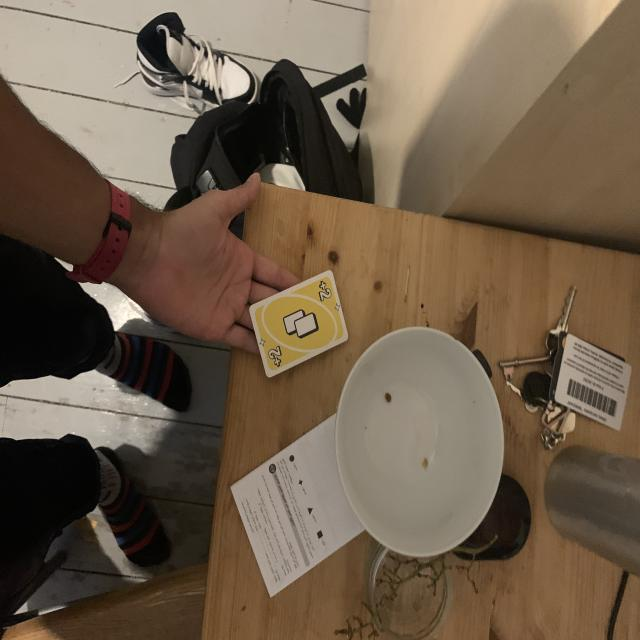lyellow-20: (313, 280, 336, 304)
